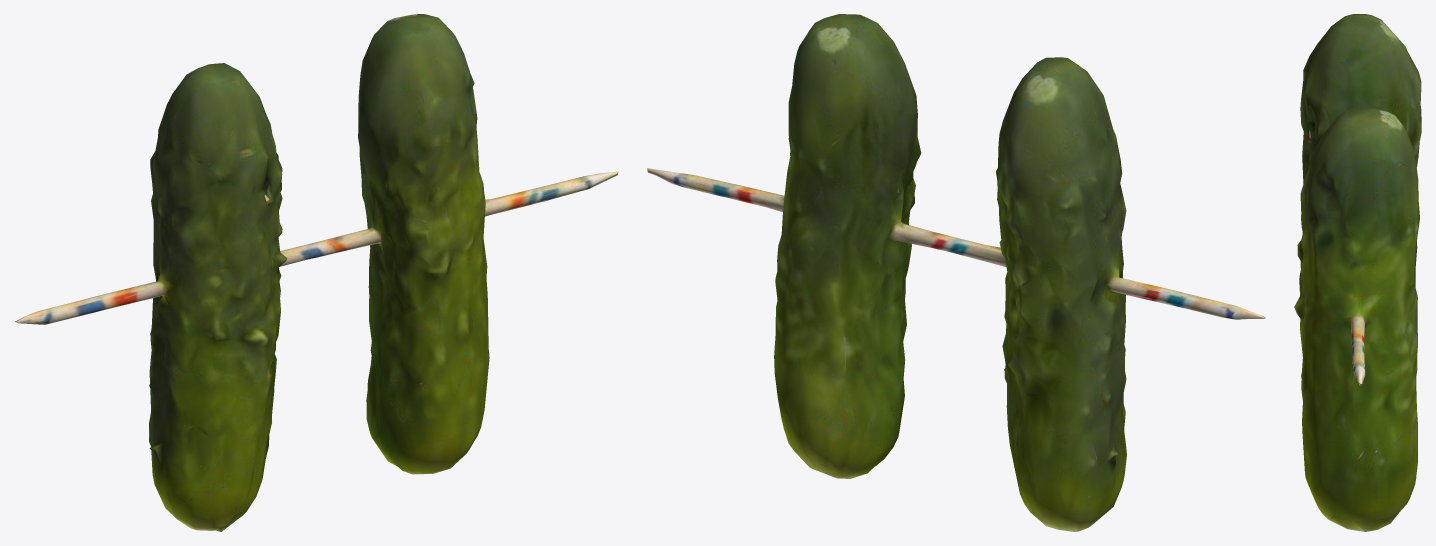
Rendered from Sprite_H.glb.
The picture shows the model from 3 angles, left to right: view 1: azimuth 30°, elevation 25°; view 2: azimuth 150°, elevation 25°; view 3: azimuth 270°, elevation 25°; orthographic projection. The views are drawn at different scales.
Bounding box in the file's own units: 1.99 × 1.42 × 0.3962.
Materials: 1 (1 with a texture image).
